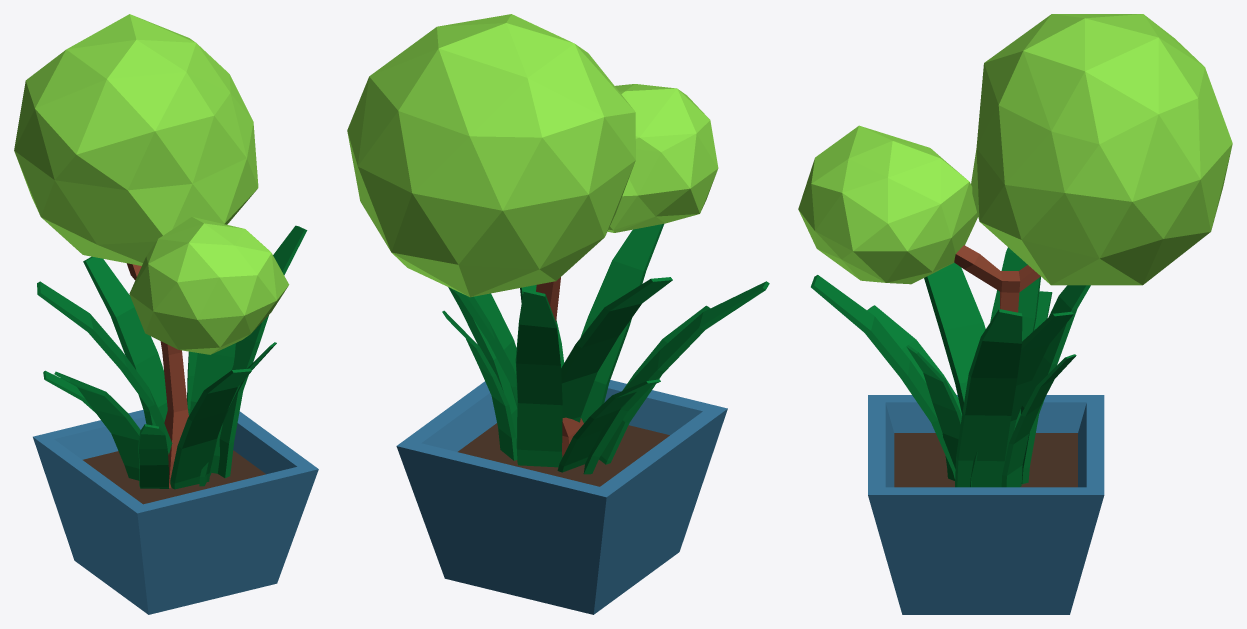
File: Plants.fbx
3 views of the same model, side by side, from view 1: azimuth 30°, elevation 25°; view 2: azimuth 150°, elevation 25°; view 3: azimuth 270°, elevation 25° (orthographic). The views are drawn at different scales.
Visible parts, largest first — view 1: Plant1, Pot, Plant2; view 2: Plant1, Pot, Plant2; view 3: Plant1, Pot, Plant2.
Part boxes in pixels (box(x1,y1,x2,y2)): Plant1: box(14, 14, 289, 488); Pot: box(33, 410, 318, 614); Plant2: box(37, 225, 307, 489); Plant1: box(347, 14, 718, 457); Pot: box(396, 380, 727, 614); Plant2: box(442, 224, 769, 474); Plant1: box(798, 14, 1232, 312); Pot: box(868, 395, 1104, 614); Plant2: box(811, 247, 1090, 487).
Bounding box in the file's own units: 252 × 419 × 293.
